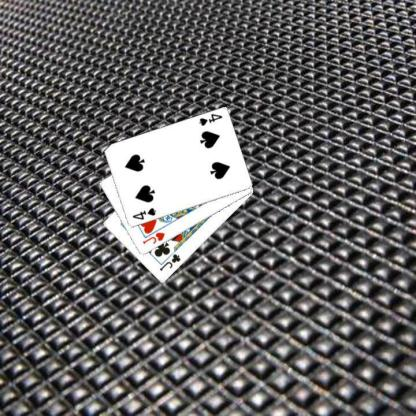4S: (196, 112, 224, 127), (130, 206, 157, 221)
JC: (157, 251, 182, 272)
JH: (140, 230, 166, 246)
